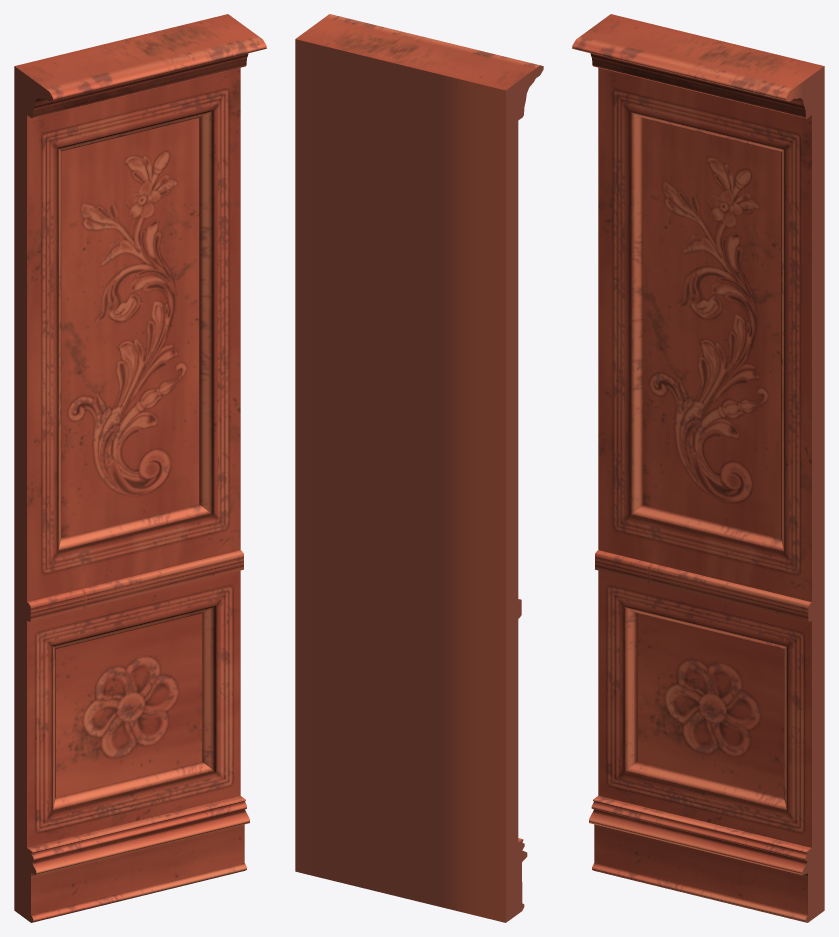
Rendered from MSH_Wall_02b.FBX.
3 views of the same model, side by side, from view 1: azimuth 30°, elevation 25°; view 2: azimuth 150°, elevation 25°; view 3: azimuth 330°, elevation 25° (orthographic).
Parts seen in each view (by area): view 1: MSH_Wall_02b; view 2: MSH_Wall_02b; view 3: MSH_Wall_02b.
Boxes of the visible parts, box(x1,y1,x2,y2) form: MSH_Wall_02b: box(14, 14, 266, 922); MSH_Wall_02b: box(295, 14, 543, 922); MSH_Wall_02b: box(572, 14, 824, 922).
Size of what is drawn, in the model's own units: 90.01 by 28 by 340.
